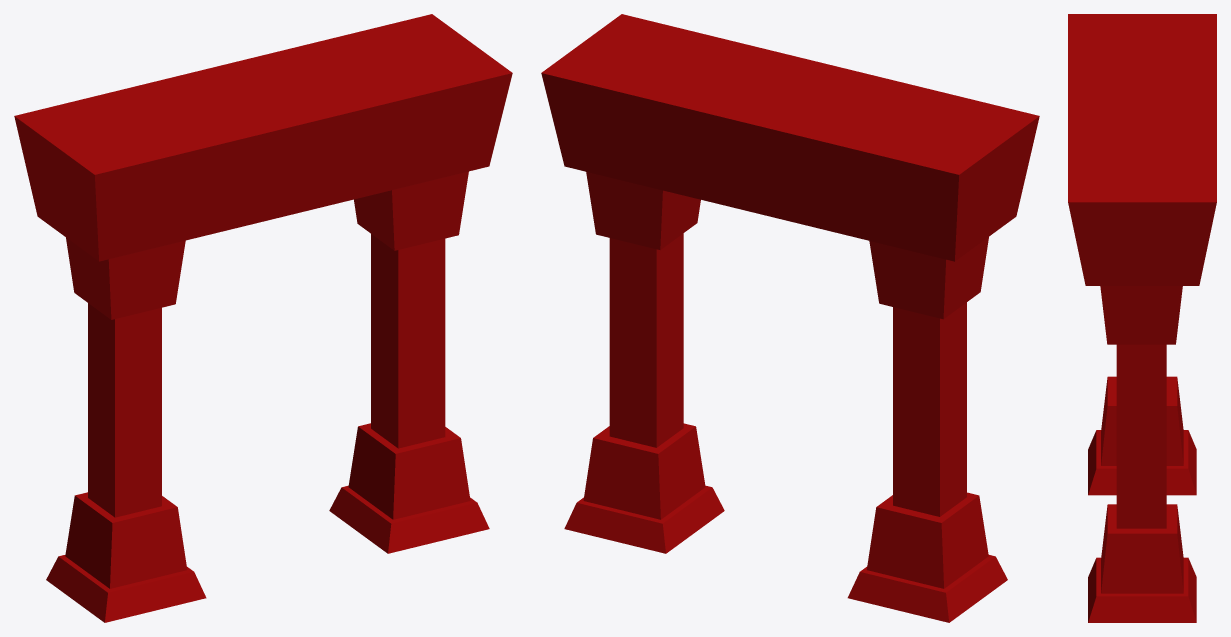
Rendered from SM_Bld_Ruins_Archway_02_Collision.glb.
The picture shows the model from 3 angles, left to right: view 1: azimuth 30°, elevation 25°; view 2: azimuth 150°, elevation 25°; view 3: azimuth 270°, elevation 25°; orthographic projection. The views are drawn at different scales.
Visible parts, largest first — view 1: SM_Bld_Ruins_Archway_02_Collision; view 2: SM_Bld_Ruins_Archway_02_Collision; view 3: SM_Bld_Ruins_Archway_02_Collision.
Boxes of the visible parts, <box> form: SM_Bld_Ruins_Archway_02_Collision: <box>14,14,512,622</box>; SM_Bld_Ruins_Archway_02_Collision: <box>541,14,1039,622</box>; SM_Bld_Ruins_Archway_02_Collision: <box>1068,14,1216,622</box>.
Bounding box in the file's own units: 8.74 × 9.21 × 2.92.
